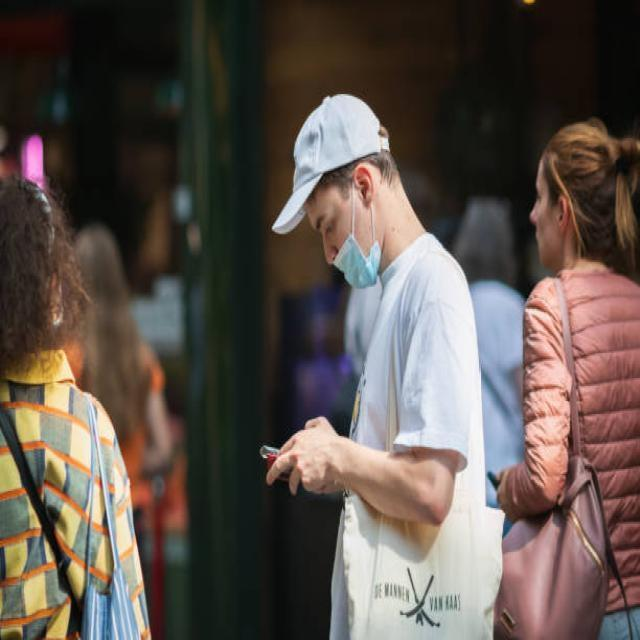hairnet: (325, 188, 384, 288)
